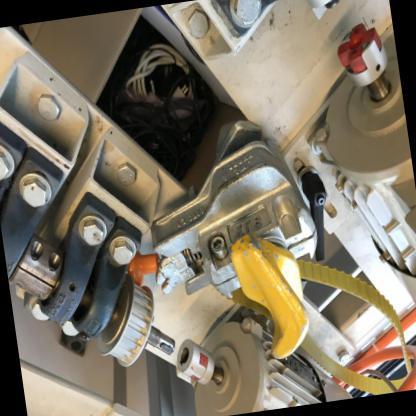Twistlock: (107, 104, 341, 382)
